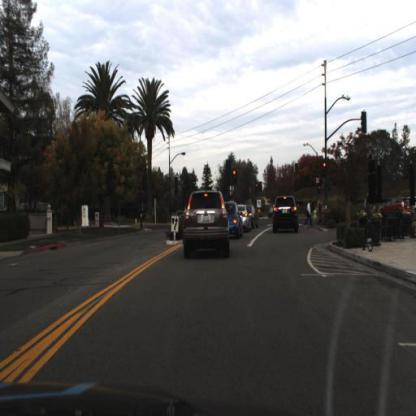car: (184, 191, 231, 251), (273, 195, 299, 234), (378, 195, 414, 216), (225, 201, 243, 238), (236, 205, 251, 232)
pedestrian: (305, 200, 313, 226), (312, 207, 319, 227)
trafficLight-Red: (321, 160, 330, 183), (231, 170, 239, 186)
